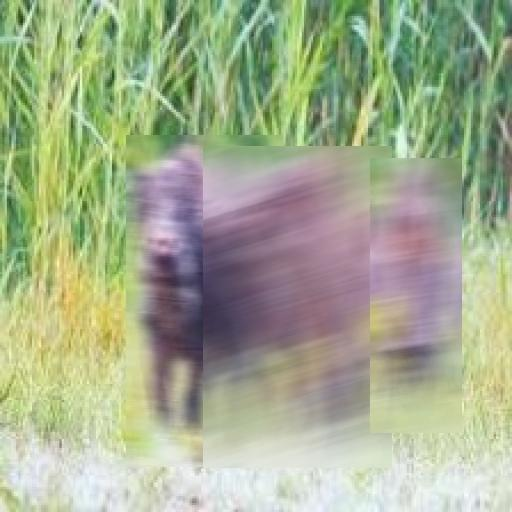Pig: (203, 146, 392, 468), (126, 135, 283, 467), (370, 158, 462, 433)
